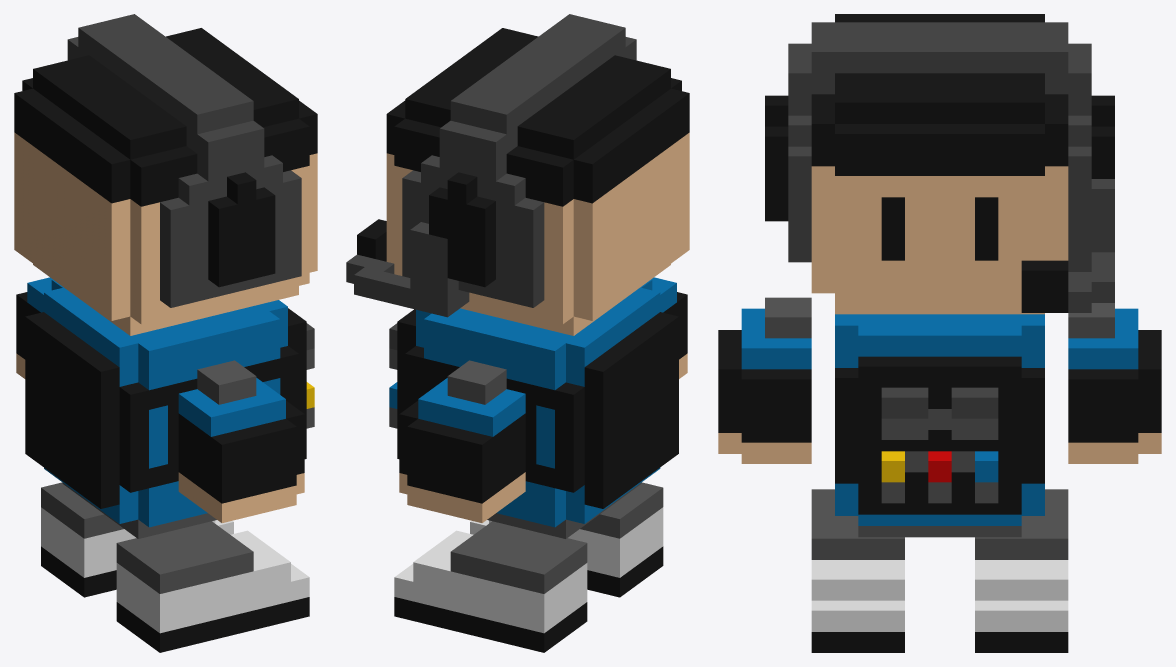
File: Player.obj
The picture shows the model from 3 angles, left to right: view 1: azimuth 30°, elevation 25°; view 2: azimuth 150°, elevation 25°; view 3: azimuth 270°, elevation 25°; orthographic projection. The views are drawn at different scales.
Parts seen in each view (by area): view 1: Player_Head, player_Body, player_Lefthand001, player_LeftHand, player_RightHand, player_Right; view 2: Player_Head, player_Body, player_RightHand, player_Right, player_Lefthand001, player_LeftHand; view 3: Player_Head, player_Body, player_LeftHand, player_Right, player_Lefthand001, player_RightHand.
Part boxes in pixels (x1,y1,x2,y2): Player_Head: (14, 14, 317, 335); player_Body: (25, 279, 314, 538); player_Lefthand001: (116, 521, 309, 652); player_LeftHand: (178, 360, 304, 522); player_RightHand: (41, 482, 233, 597); player_Right: (16, 277, 52, 378); Player_Head: (346, 14, 689, 335); player_Body: (389, 279, 678, 538); player_RightHand: (394, 521, 587, 652); player_Right: (399, 360, 525, 522); player_Lefthand001: (470, 482, 663, 597); player_LeftHand: (651, 277, 687, 378); Player_Head: (765, 14, 1114, 314); player_Body: (835, 314, 1044, 537); player_LeftHand: (718, 297, 811, 463); player_Right: (1068, 303, 1161, 463); player_Lefthand001: (811, 489, 904, 652); player_RightHand: (975, 489, 1068, 652).
Size of the model in its own units: 1.2 by 2.7 by 1.9.
